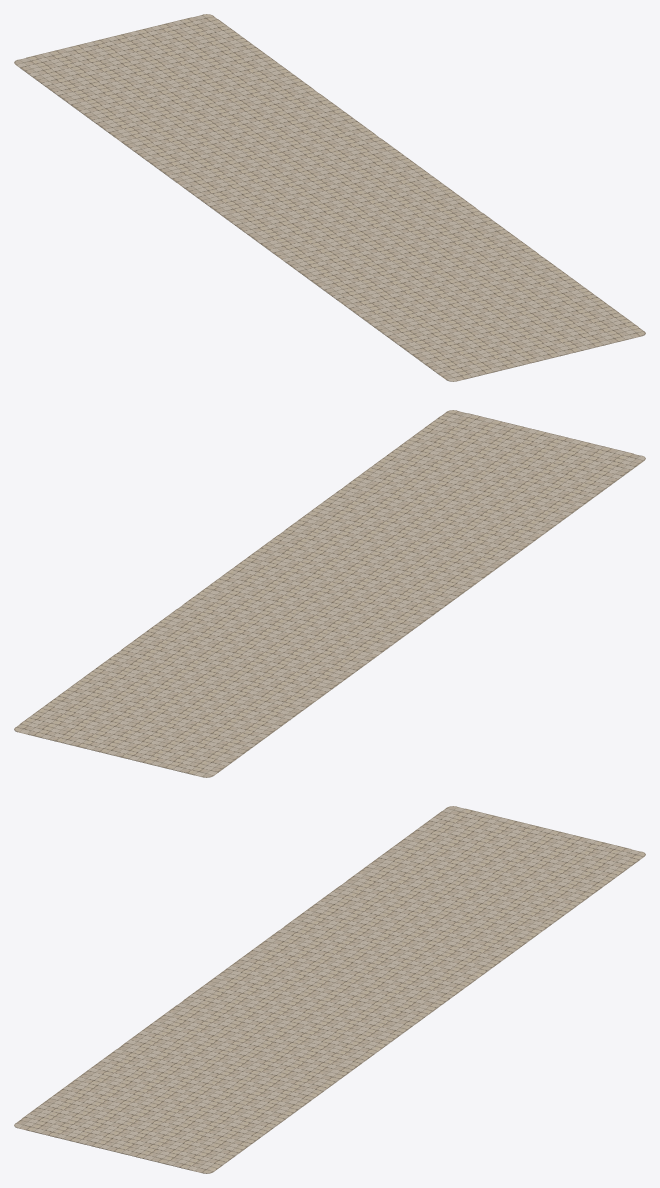
File: Long_ConcreteBlock.fbx
The picture shows the model from 3 angles, top to bottom: view 1: azimuth 30°, elevation 25°; view 2: azimuth 150°, elevation 25°; view 3: azimuth 330°, elevation 25°; orthographic projection.
Visible parts, largest first — view 1: PlayUp_Long_ConcreteBlock; view 2: PlayUp_Long_ConcreteBlock; view 3: PlayUp_Long_ConcreteBlock.
Boxes of the visible parts, x1,y1,x2,y2 form: PlayUp_Long_ConcreteBlock: (14,14,645,381); PlayUp_Long_ConcreteBlock: (14,410,645,777); PlayUp_Long_ConcreteBlock: (14,806,645,1173).
Size of the model in its own units: 72.74 by 0.105 by 279.
